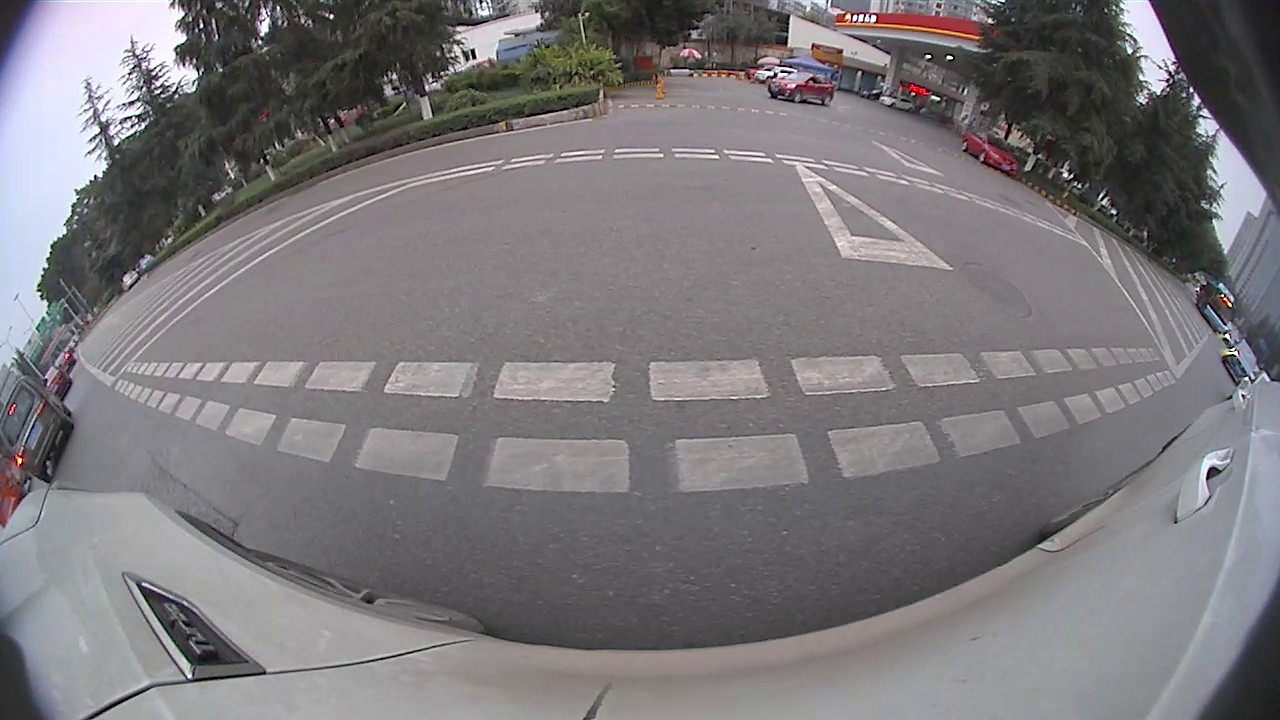car: (347, 1, 1098, 401), (154, 93, 336, 239), (6, 306, 73, 397), (1058, 192, 1112, 299), (1185, 380, 1247, 469), (69, 231, 135, 292), (1129, 276, 1165, 321), (1170, 328, 1201, 370)
front: (994, 336, 1071, 400), (243, 182, 269, 217)
rear: (501, 263, 677, 391), (185, 213, 204, 237)
